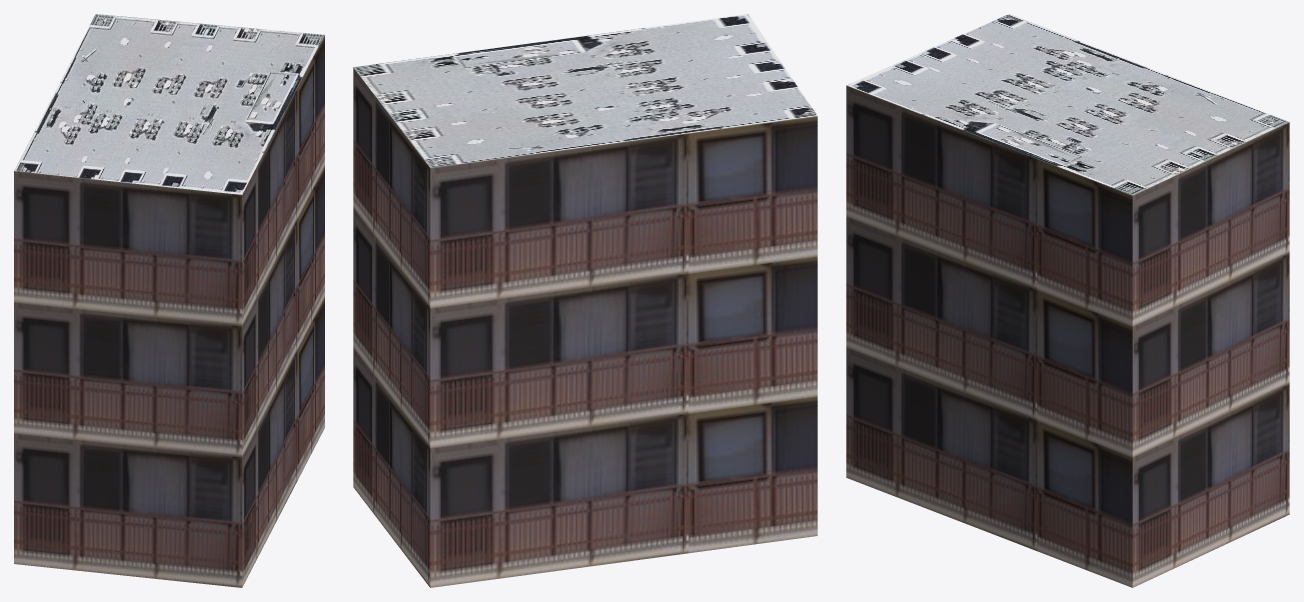
Rendered from ResTex__4719.fbx.
3 renders of one model, left to right at view 1: azimuth 30°, elevation 25°; view 2: azimuth 150°, elevation 25°; view 3: azimuth 270°, elevation 25°, orthographic. The views are drawn at different scales.
Visible parts, largest first — view 1: CityEngineMaterial_6_m, CityEngineMaterial_m; view 2: CityEngineMaterial_6_m, CityEngineMaterial_m; view 3: CityEngineMaterial_6_m, CityEngineMaterial_m.
Part boxes in pixels (box(x1,y1,x2,y2)): CityEngineMaterial_6_m: box(14, 35, 324, 587); CityEngineMaterial_m: box(14, 14, 324, 194); CityEngineMaterial_6_m: box(353, 67, 817, 587); CityEngineMaterial_m: box(353, 14, 817, 167); CityEngineMaterial_6_m: box(846, 85, 1289, 587); CityEngineMaterial_m: box(846, 14, 1289, 195).
Size of the model in its own units: 8.93 by 9 by 9.22.
Materials: 2 (2 with a texture image).
